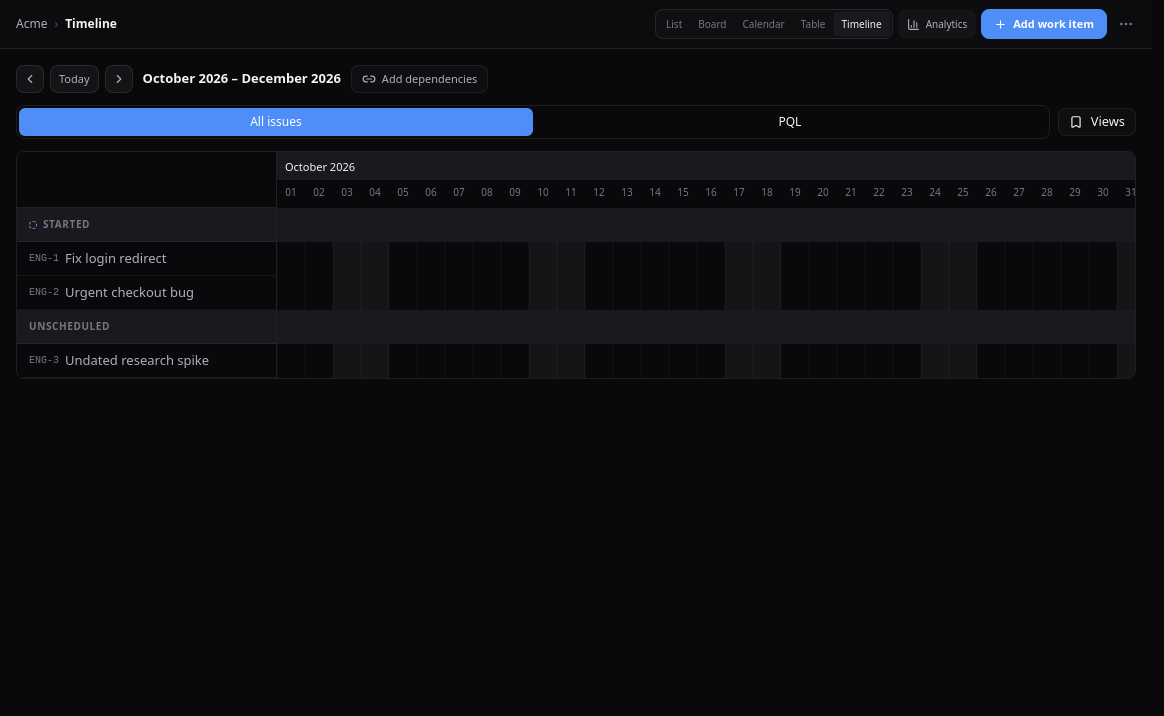
Test case: Gantt PQL mode (C109T2) › invalid PQL shows the editor error with column and leaves the bars untouched
Check: the text "Fix login redirect" is shown, box top-left (65, 249), bottom-right (166, 268)
Check: the text "Urgent checkout bug" is shown, box top-left (65, 283), bottom-right (194, 302)
Click the button "PQL" at (790, 122), box top-left (533, 108), bottom-right (1047, 136)
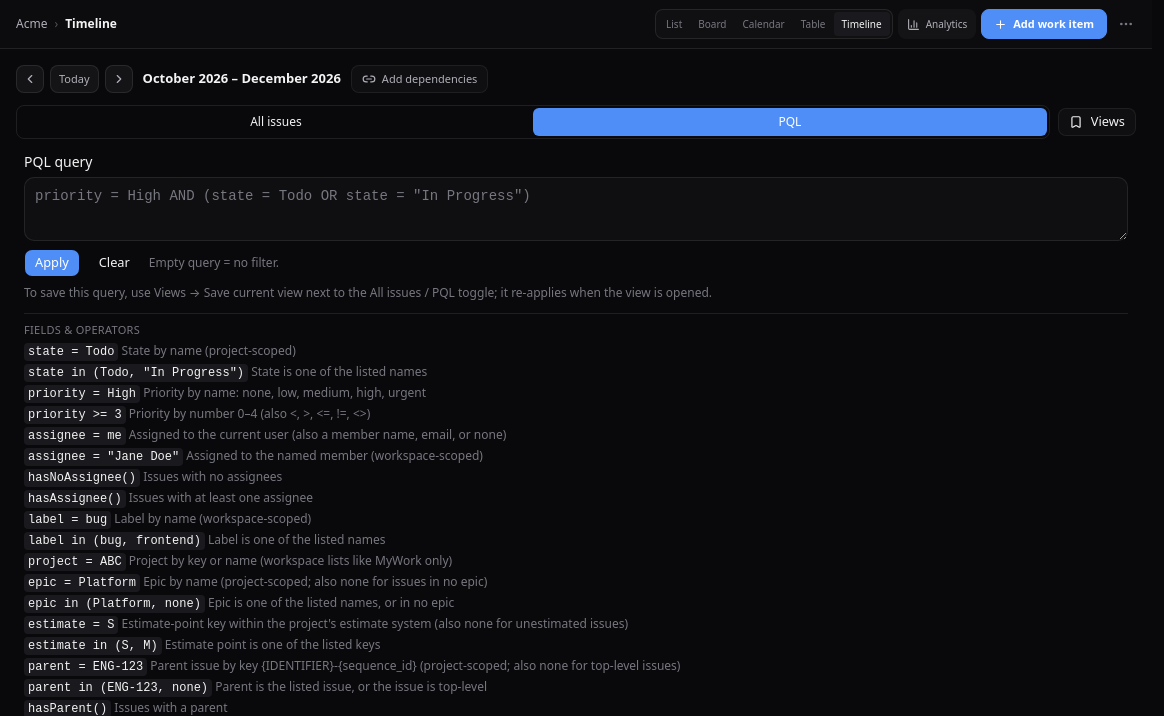
Check: the text box labelled "PQL query" is shown
Type "bogus = 1" into the text box labelled "PQL query" at (576, 209), box top-left (24, 177), bottom-right (1128, 241)
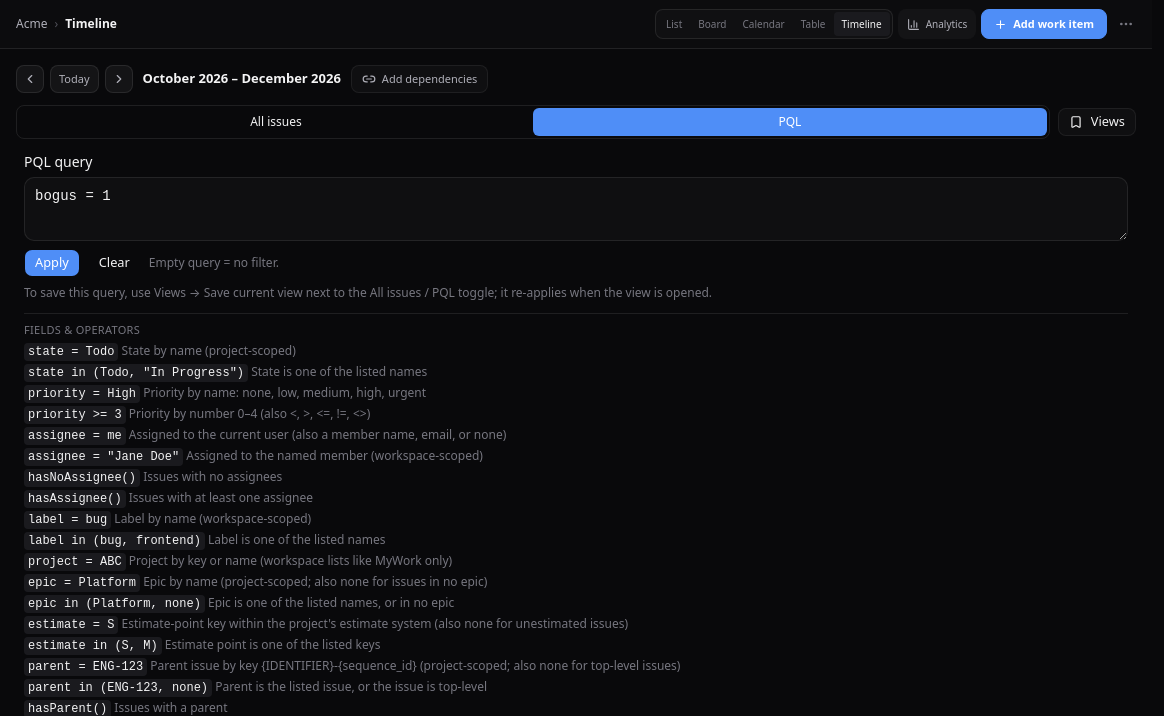
Click the button "Apply" at (52, 263), box top-left (24, 249), bottom-right (80, 277)
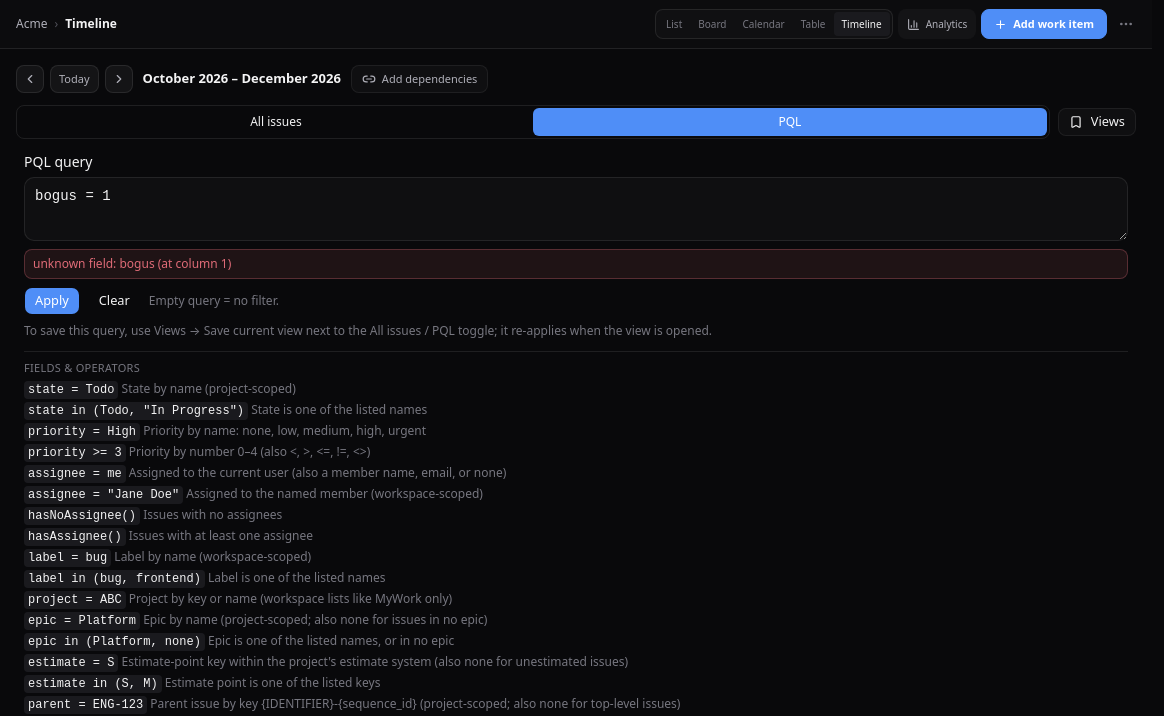
Check: the message shows "unknown field: bogus", box top-left (33, 255), bottom-right (231, 272)
Check: the message shows "at column 1", box top-left (33, 255), bottom-right (231, 272)
